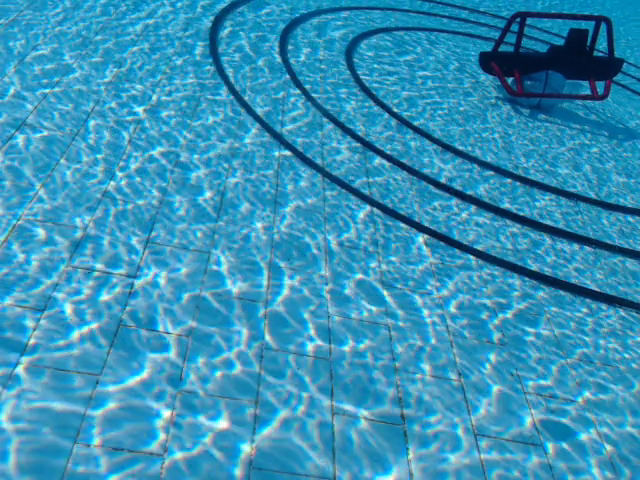submarine: (476, 9, 626, 103)
